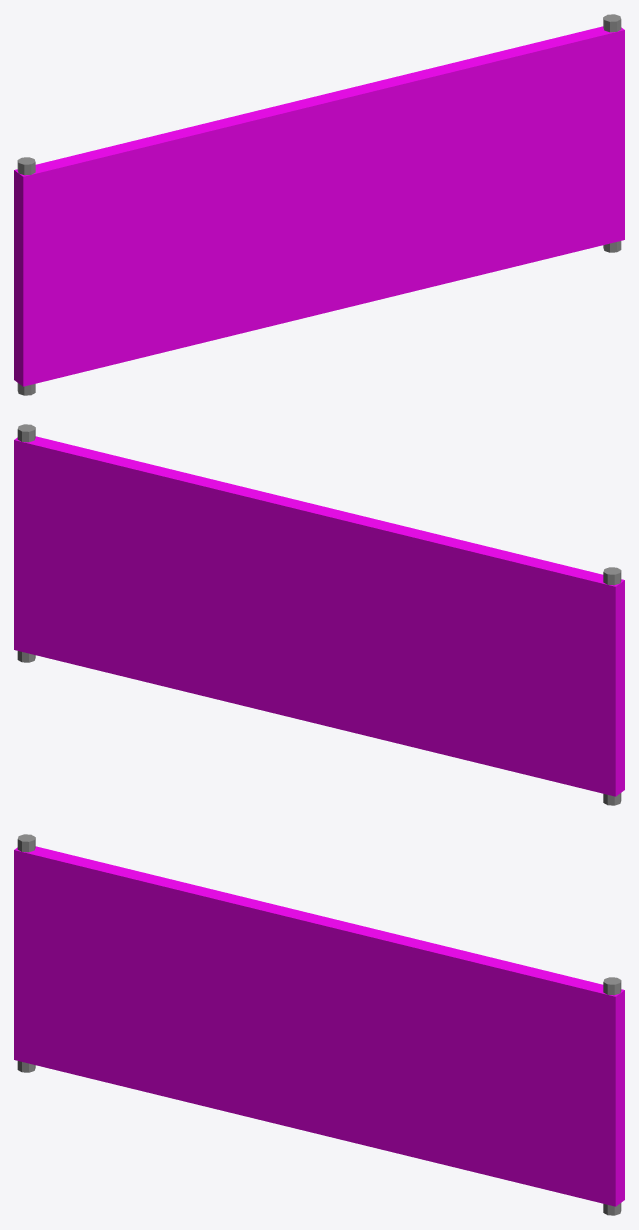
File: ribbon_yellow_3m.dae
The picture shows the model from 3 angles, top to bottom: view 1: azimuth 30°, elevation 25°; view 2: azimuth 150°, elevation 25°; view 3: azimuth 330°, elevation 25°; orthographic projection.
Visible parts, largest first — view 1: Colmesh_panel-1; view 2: Colmesh_panel-1; view 3: Colmesh_panel-1.
Boxes of the visible parts, x1=… form: Colmesh_panel-1: x1=14, y1=26, x2=624, y2=386; Colmesh_panel-1: x1=14, y1=436, x2=624, y2=796; Colmesh_panel-1: x1=14, y1=846, x2=624, y2=1206.
Bounding box in the file's own units: 3 × 0.08 × 1.1.
